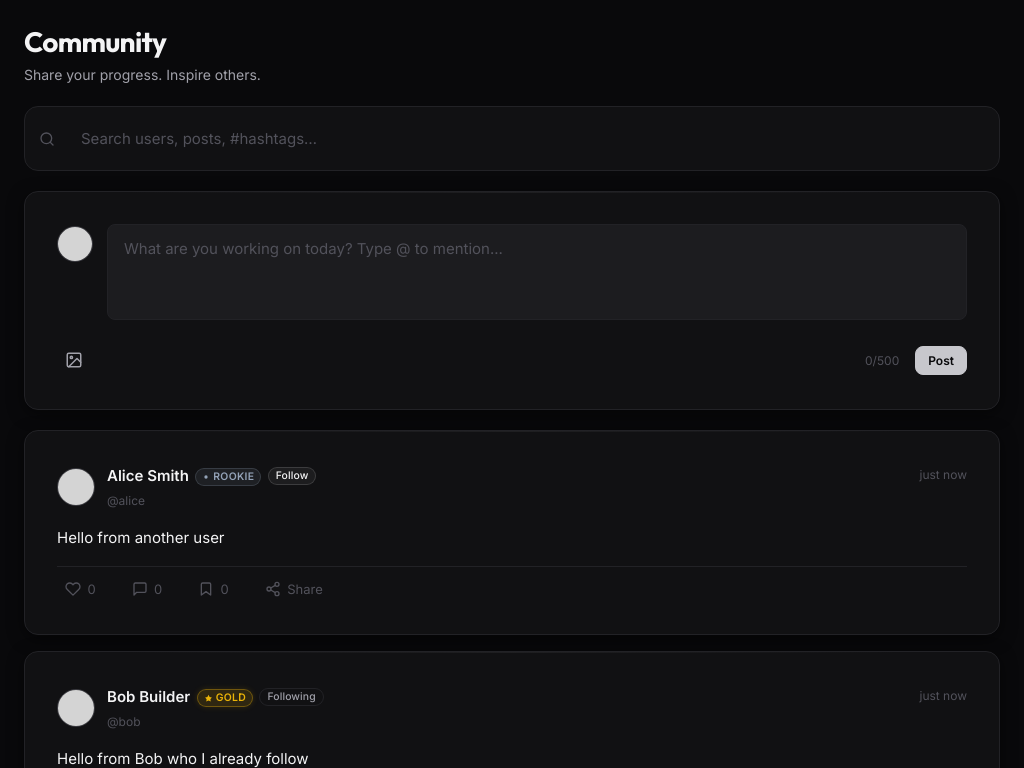
Test: CommunityComponent - Follow Button UI & Logic › should unfollow user optimistically and update button to "Follow" on click
Click the button "Following" at (292, 697), box [260, 688, 324, 706]
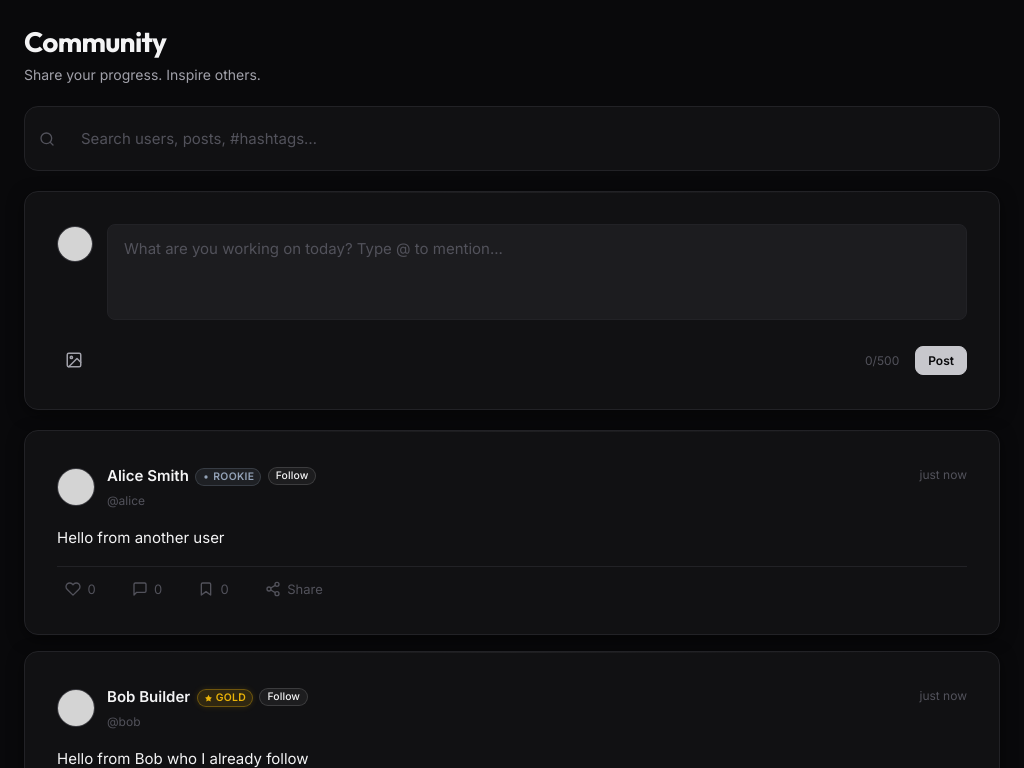
Check: the button "Follow" next to "Gold" is shown, box [260, 688, 308, 706]
